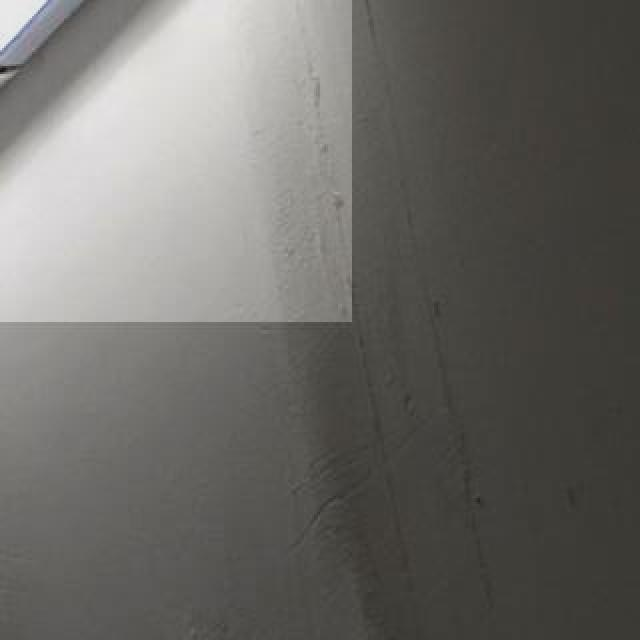fluorescent tube: (0, 0, 274, 300)
